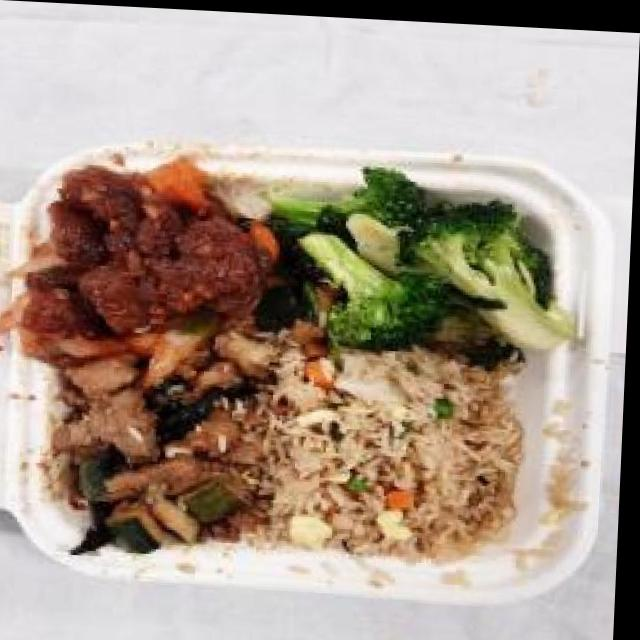Beijing Beef: (3, 151, 283, 360)
Fried Rice: (264, 347, 534, 565)
Kung Pao Chicken: (29, 332, 299, 566)
Super Greens: (268, 151, 585, 374)
